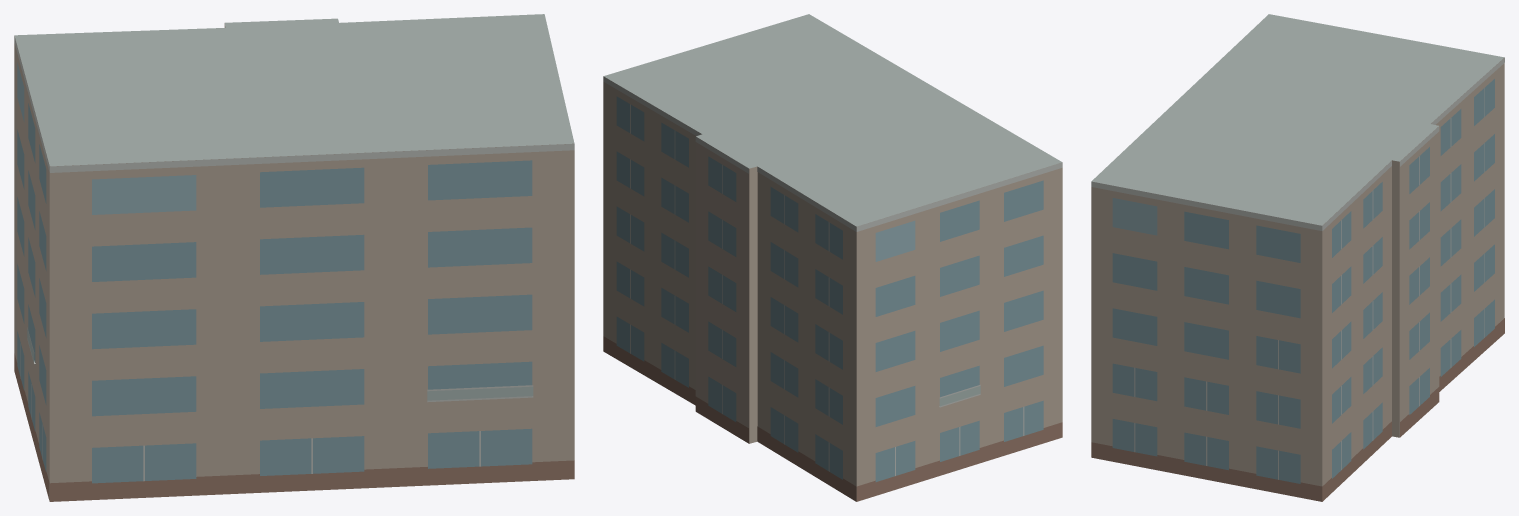
Rendered from survey-upis-32667284.glb.
3 views of the same model, side by side, from view 1: azimuth 30°, elevation 25°; view 2: azimuth 150°, elevation 25°; view 3: azimuth 270°, elevation 25° (orthographic). The views are drawn at different scales.
Visible parts, largest first — view 1: survey-upis-32667284.tmp; view 2: survey-upis-32667284.tmp; view 3: survey-upis-32667284.tmp.
Boxes of the visible parts, x1,y1,x2,y2 form: survey-upis-32667284.tmp: (14,14,574,501); survey-upis-32667284.tmp: (603,14,1062,501); survey-upis-32667284.tmp: (1091,14,1504,501).
Size of the model in its own units: 20.41 by 12.4 by 16.84.
